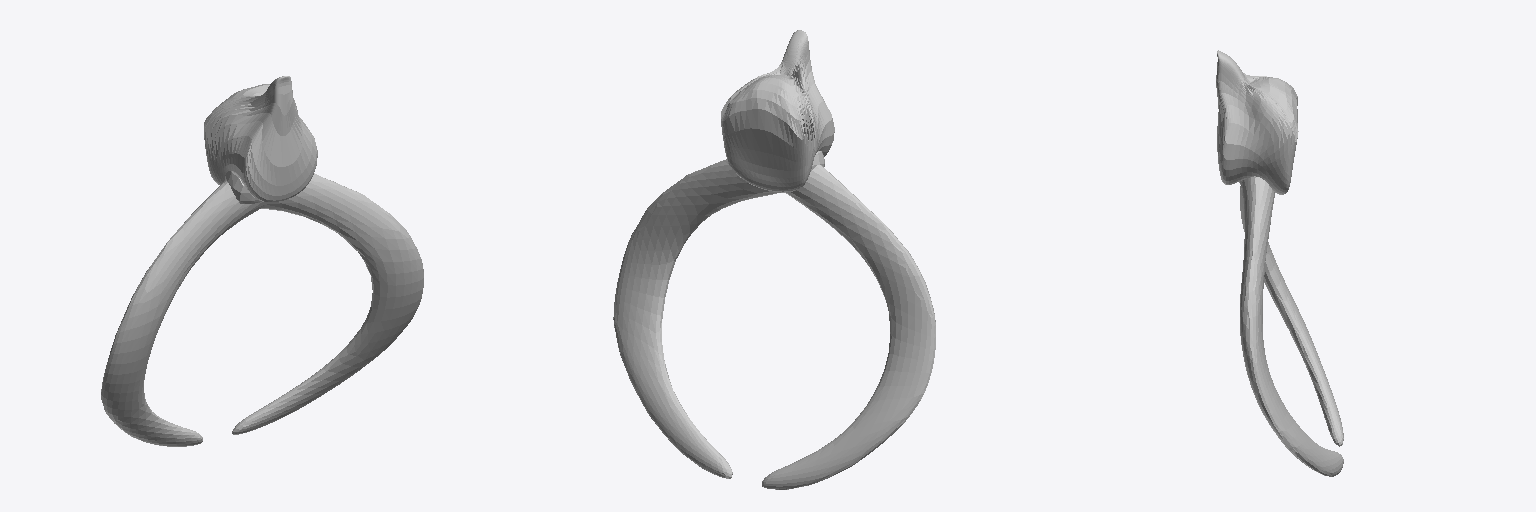
Rendered from ribvertabrae1.obj.
The picture shows the model from 3 angles: view 1: azimuth 30°, elevation 25°; view 2: azimuth 150°, elevation 25°; view 3: azimuth 270°, elevation 25°; orthographic projection.
Parts seen in each view (by area): view 1: Torus; view 2: Torus; view 3: Torus.
Boxes of the visible parts, x1=… form: Torus: x1=101, y1=76, x2=423, y2=446; Torus: x1=613, y1=30, x2=935, y2=489; Torus: x1=1216, y1=50, x2=1343, y2=476.
Size of the model in its own units: 0.3492 by 0.4282 by 0.1219.